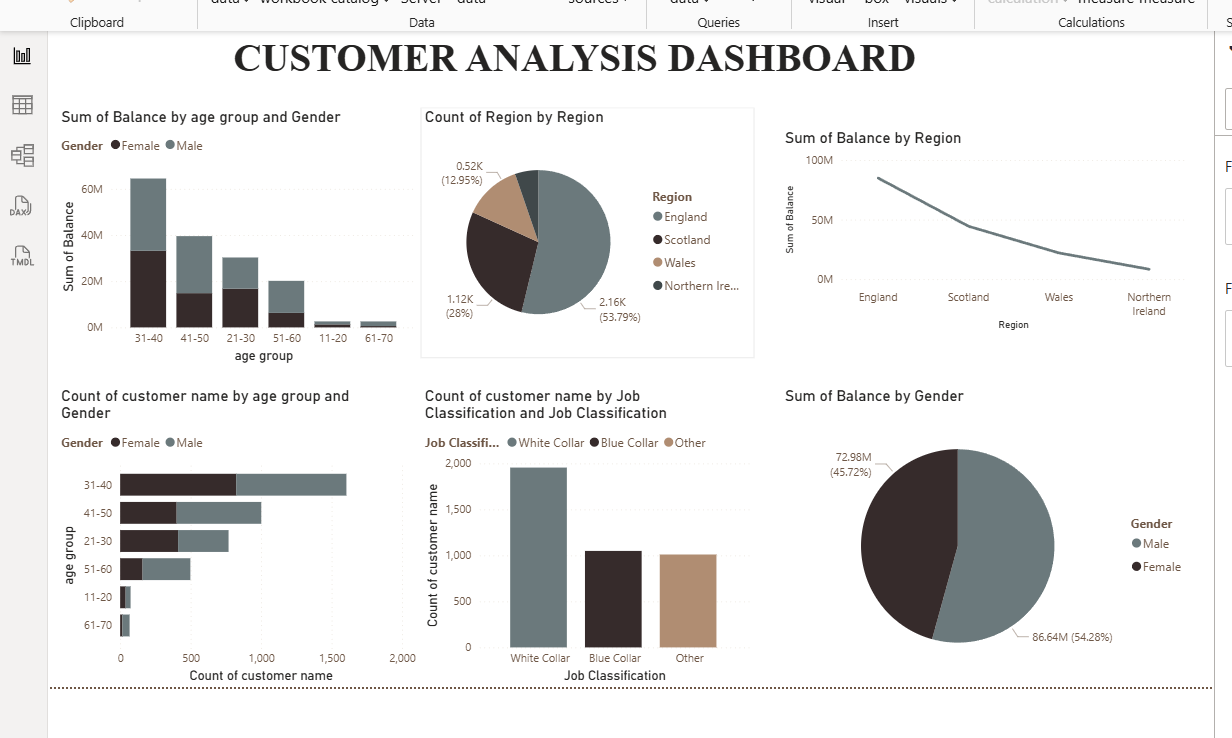

What the dashboard file says about the page in this screenshot:
{"tool":"powerbi","page":{"name":"Page 1","canvas":[1280,720],"ordinal":0},"visuals":[{"type":"columnChart","fields":{"Y":["Sum(P6-UK-Bank-Customers.Balance)"],"Category":["P6-UK-Bank-Customers.age group"],"Series":["P6-UK-Bank-Customers.Gender"]},"box":[9.6,83.7,399.3,285.4],"z":0},{"type":"barChart","fields":{"Y":["CountNonNull(P6-UK-Bank-Customers.customer name)"],"Category":["P6-UK-Bank-Customers.age group"],"Series":["P6-UK-Bank-Customers.Gender"]},"box":[9.6,389.7,399.3,330.7],"z":1000},{"type":"pieChart","fields":{"Category":["P6-UK-Bank-Customers.Region"],"Y":["CountNonNull(P6-UK-Bank-Customers.Region)"]},"box":[408.9,83.7,366.4,275.8],"z":2000},{"type":"columnChart","fields":{"Category":["P6-UK-Bank-Customers.Job Classification"],"Y":["CountNonNull(P6-UK-Bank-Customers.customer name)"],"Series":["P6-UK-Bank-Customers.Job Classification"]},"box":[408.9,389.7,366.4,330.7],"z":3000},{"type":"lineChart","fields":{"Category":["P6-UK-Bank-Customers.Region"],"Y":["Sum(P6-UK-Bank-Customers.Balance)"]},"box":[804.1,107,455.6,226.4],"z":4000},{"type":"pieChart","fields":{"Category":["P6-UK-Bank-Customers.Gender"],"Y":["Sum(P6-UK-Bank-Customers.Balance)"]},"box":[804.1,389.7,455.6,330.7],"z":5000},{"type":"textbox","box":[0,0,1081.3,83.7],"z":5001}]}

Visuals, with their boxes on the page's 1280x720 design canvas (x1, y1, x2, y2). These are canvas units, not pixel positions in the 1232x738 screenshot, which may show the page scaled, cropped or inside an application window:
columnChart - Sum(P6-UK-Bank-Customers.Balance) x P6-UK-Bank-Customers.age group: 10/84/409/369
barChart - CountNonNull(P6-UK-Bank-Customers.customer name) x P6-UK-Bank-Customers.age group: 10/390/409/720
pieChart - P6-UK-Bank-Customers.Region x CountNonNull(P6-UK-Bank-Customers.Region): 409/84/775/360
columnChart - P6-UK-Bank-Customers.Job Classification x CountNonNull(P6-UK-Bank-Customers.customer name): 409/390/775/720
lineChart - P6-UK-Bank-Customers.Region x Sum(P6-UK-Bank-Customers.Balance): 804/107/1260/333
pieChart - P6-UK-Bank-Customers.Gender x Sum(P6-UK-Bank-Customers.Balance): 804/390/1260/720
textbox: 0/0/1081/84
